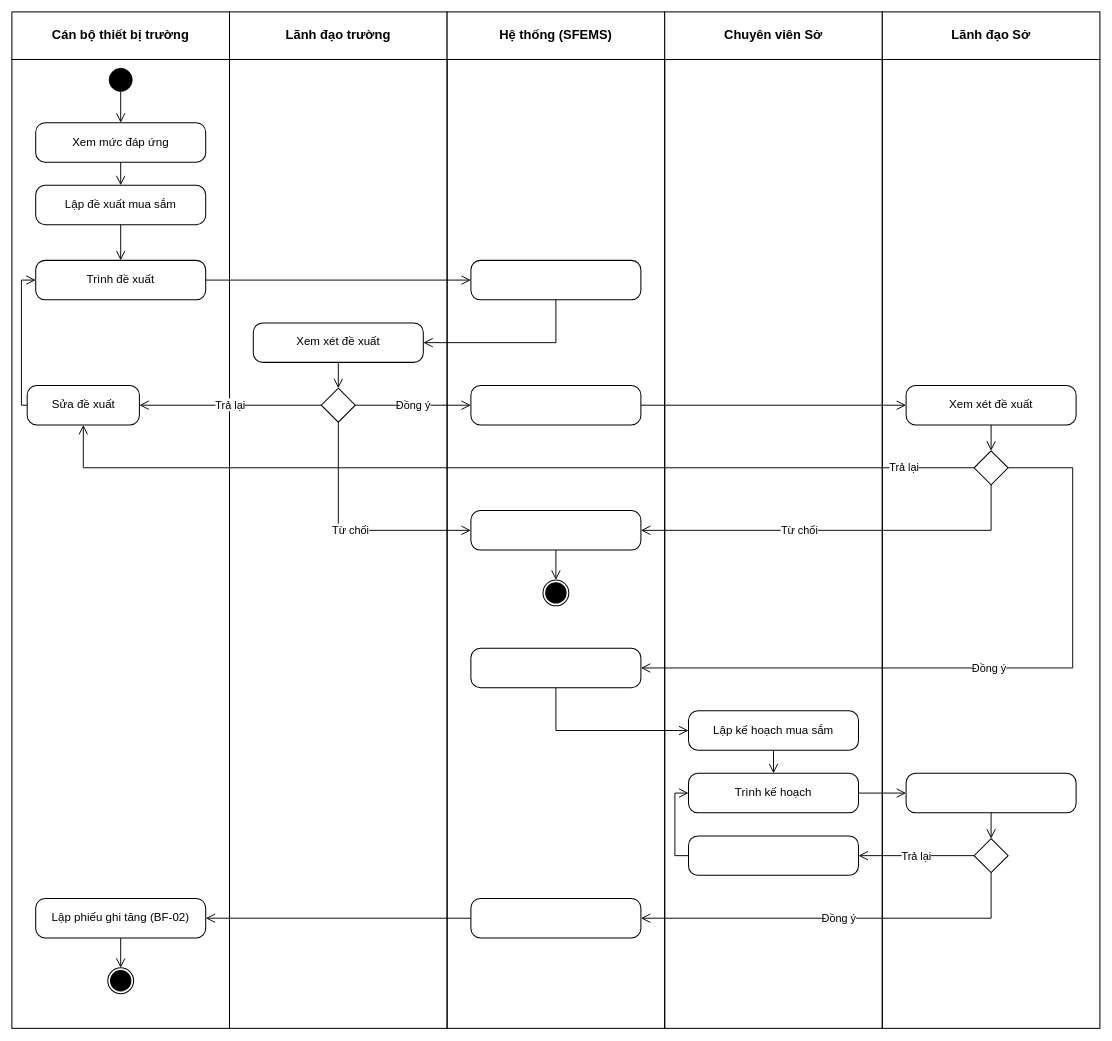
Some shapes in this 1112 by 1041 pixel diagram are drawn without their labels. Each missing label, with the box of its shape:
Chuyển Bị từ chối: (470, 510, 641, 550)
Chuyển Chờ duyệt: (470, 260, 641, 300)
Chuyển duyệt cấp Sở: (470, 385, 641, 425)
Chuyển Đã duyệt: (470, 647, 641, 688)
Chuyển đề xuất Hoàn tất: (470, 898, 641, 938)
Sửa kế hoạch: (688, 835, 859, 876)
Xem xét kế hoạch: (905, 773, 1076, 813)
